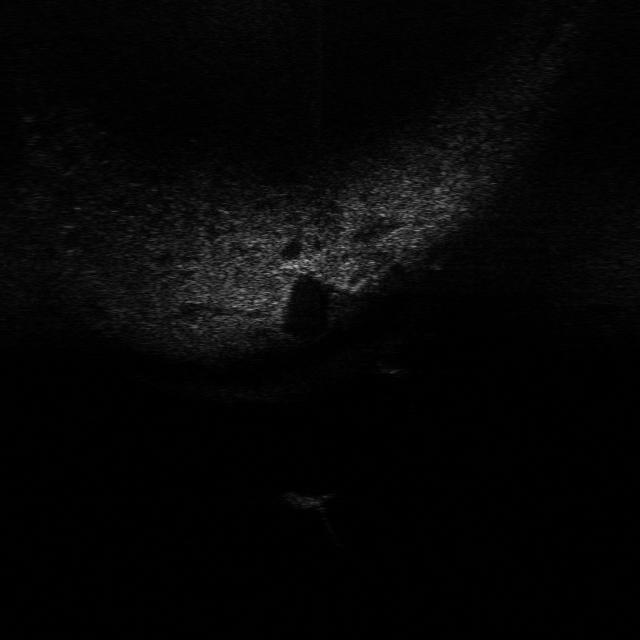ball: (372, 344, 416, 378)
cube: (277, 488, 337, 510)
